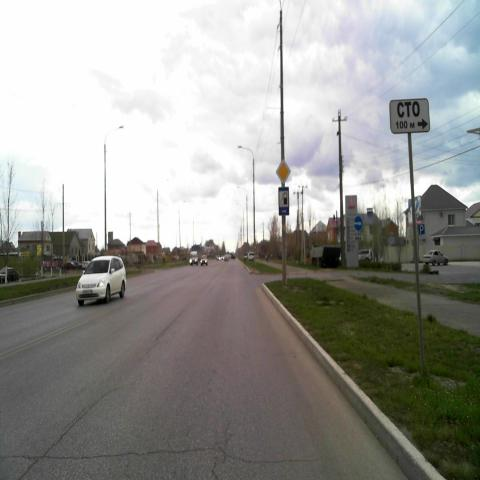4_1_2_1: (354, 215, 362, 231)
